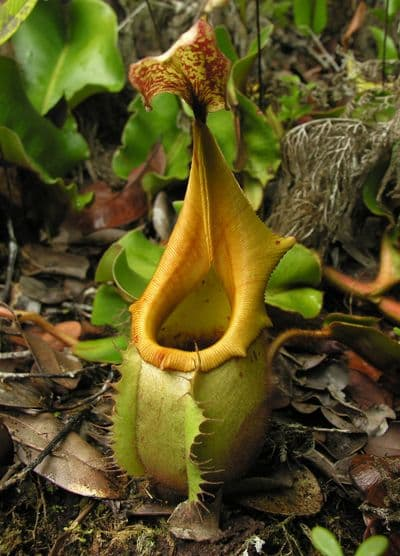veitchii: (93, 17, 311, 511)
